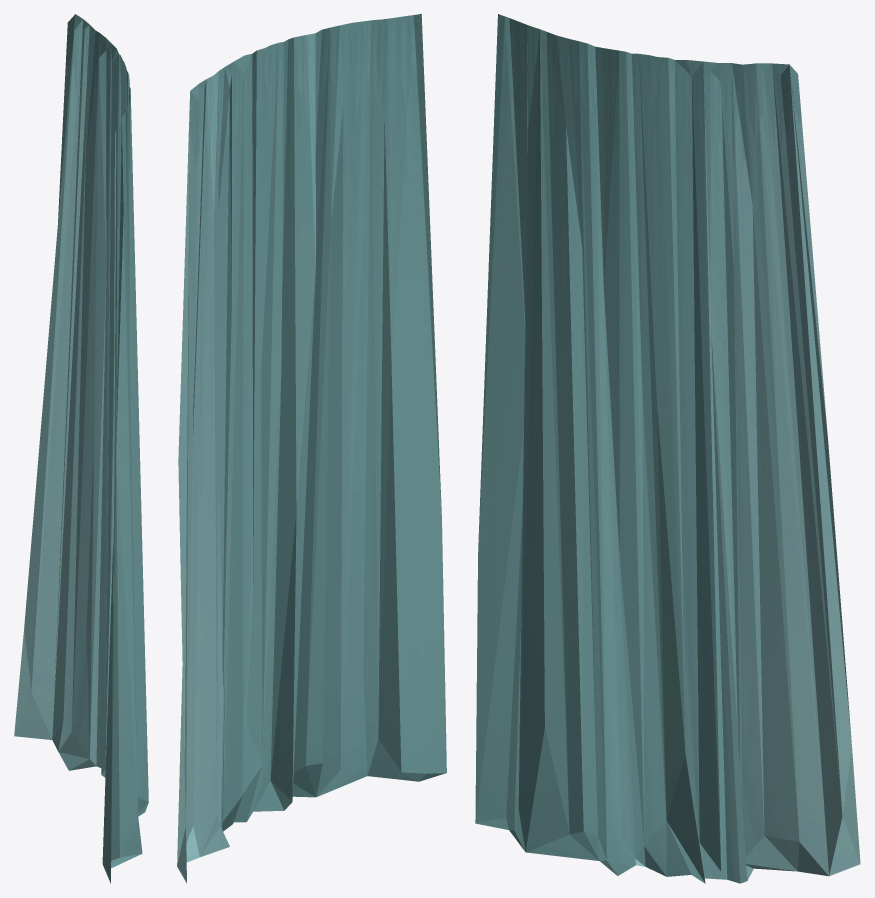
Rendered from curtain2.glb.
3 renders of one model, left to right at view 1: azimuth 30°, elevation 25°; view 2: azimuth 150°, elevation 25°; view 3: azimuth 270°, elevation 25°, orthographic. The views are drawn at different scales.
Visible parts, largest first — view 1: CURTAIN2.small; view 2: CURTAIN2.small; view 3: CURTAIN2.small.
Boxes of the visible parts, x1,y1,x2,y2 form: CURTAIN2.small: (14,14,148,883); CURTAIN2.small: (177,14,446,883); CURTAIN2.small: (475,14,860,883).
Size of the model in its own units: 1.74 by 10.93 by 4.66.
Materials: 1 (1 with a texture image).
